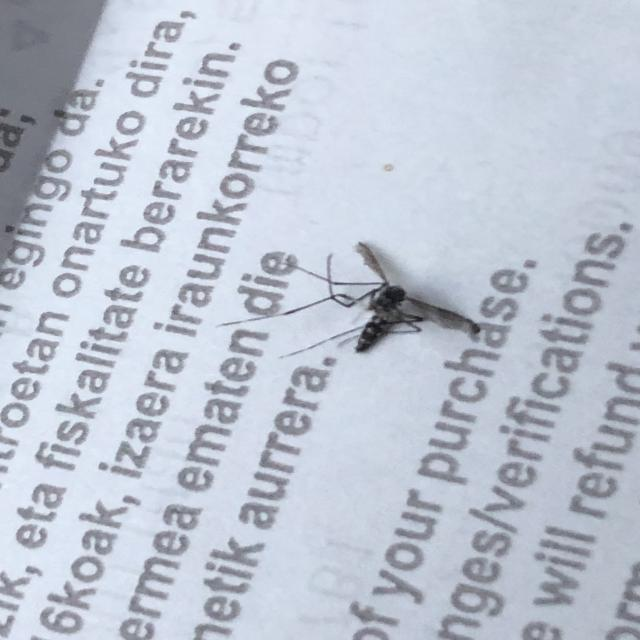albopictus: (214, 235, 498, 368)
